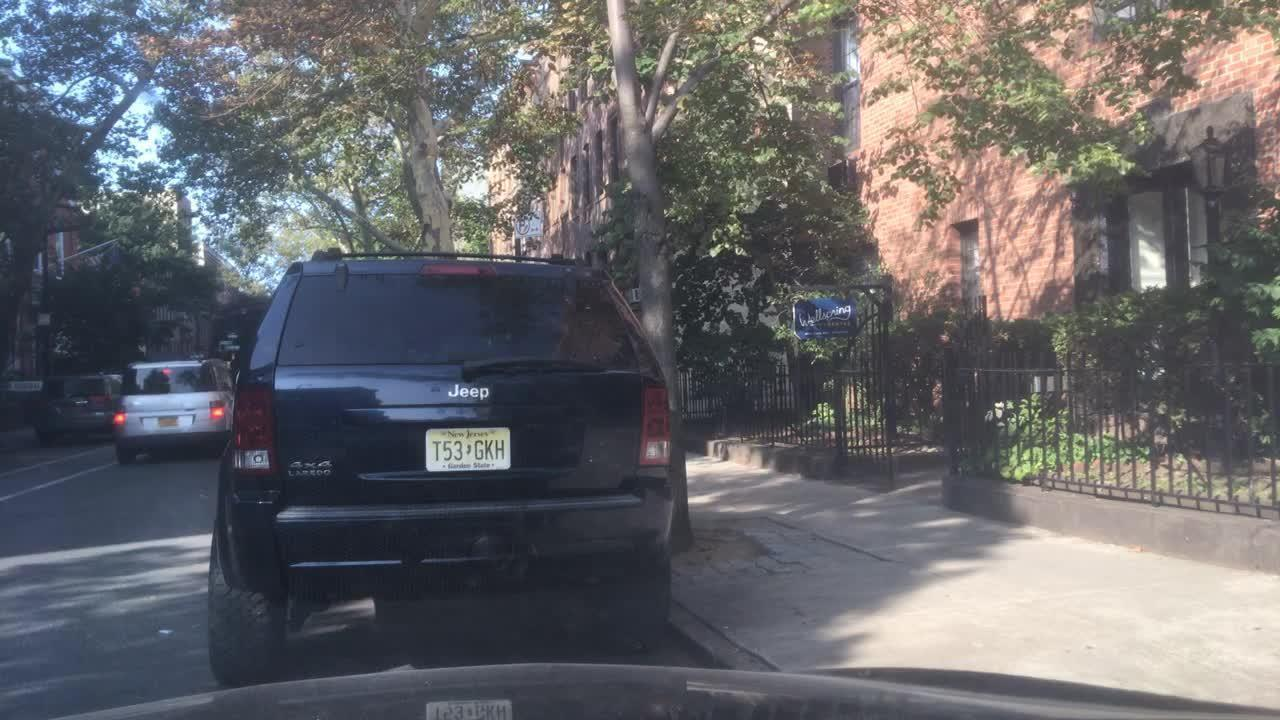jeep: (446, 380, 491, 407)
